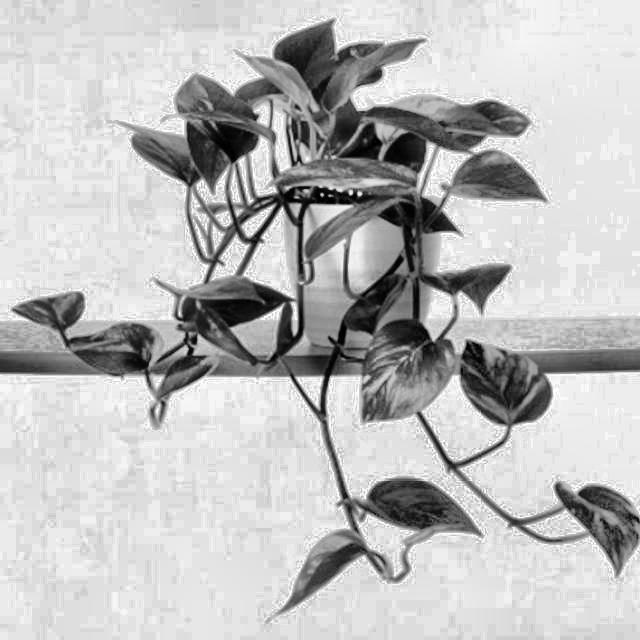plants: (93, 30, 527, 218)
